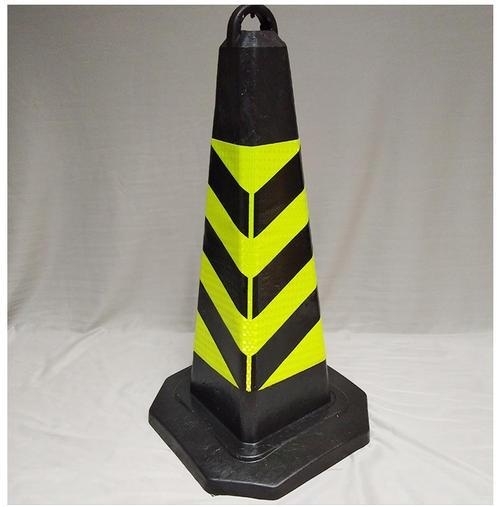cone_barrel: (152, 6, 354, 474)
